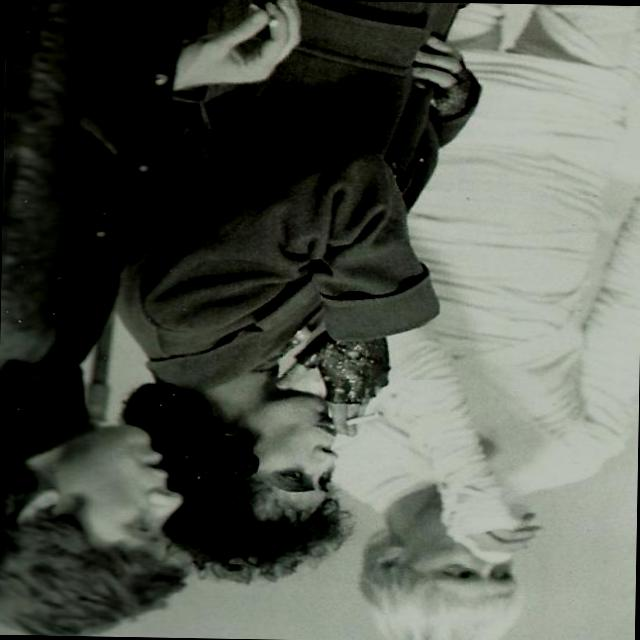smoke: (329, 411, 386, 442)
